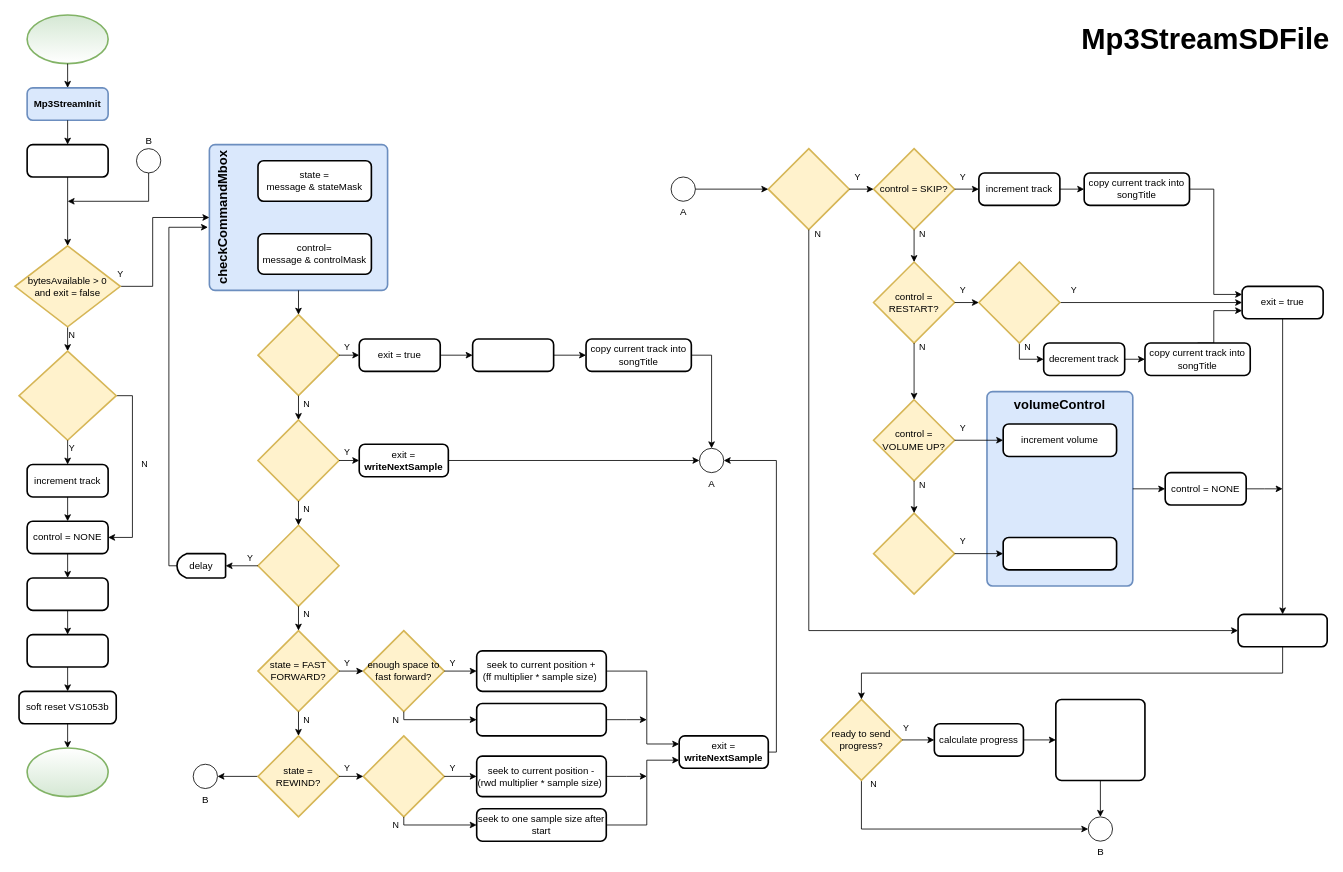
The diagram is 1343 pixels wide and 872 high, and some of its shapes have lost their labels. Each missing label, with the centre of its shape:
"2 seconds elapsed in track?" goes at pixel 1019 302.
"close dataFile" goes at pixel 67 650.
"control != NONE?" goes at pixel 808 188.
"control = VOLUME DOWN?" goes at pixel 913 553.
"current = head" goes at pixel 512 355.
"decrement volume" goes at pixel 1059 553.
"END" goes at pixel 67 772.
"enough space to rewind?" goes at pixel 403 776.
"get available bytes" goes at pixel 1282 630.
"open dataFile" goes at pixel 67 160.
"post progress to progressMessage" goes at pixel 1100 739.
"reset progress" goes at pixel 67 594.
"seek to one sample size from end" goes at pixel 541 719.
"START" goes at pixel 67 39.
"state = PAUSE?" goes at pixel 298 565.
"state = PLAY?" goes at pixel 298 460.
"state = PLAY? control = NONE?" goes at pixel 67 395.
"state = STOP?" goes at pixel 298 354.
